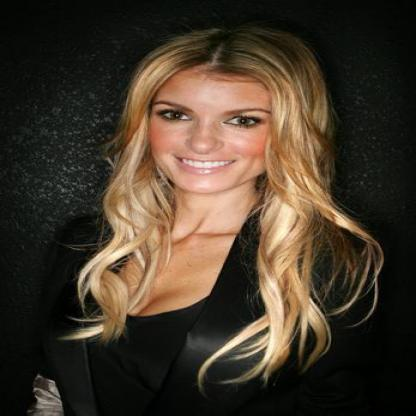long-hair: (81, 195, 352, 246)
